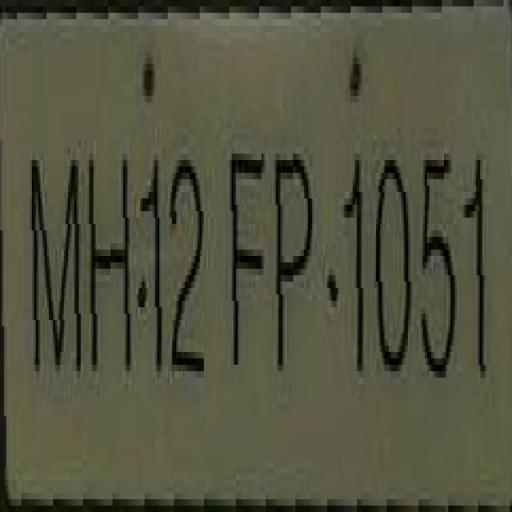number plate: (0, 6, 489, 506)
